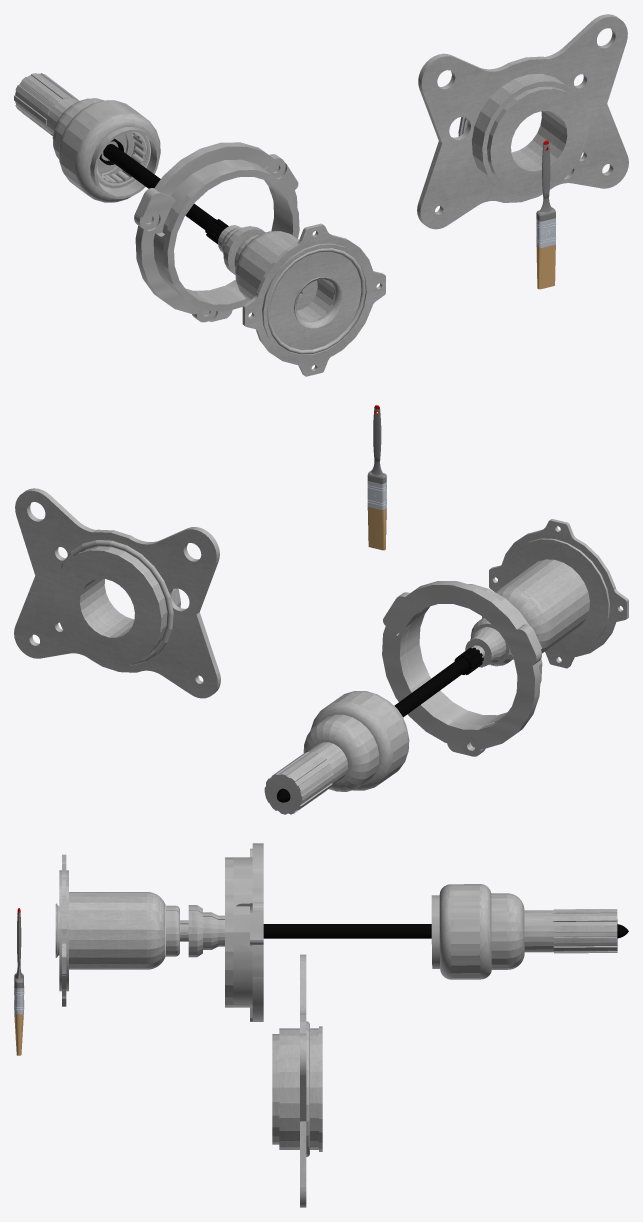
The picture shows the model from 3 angles, top to bottom: view 1: azimuth 30°, elevation 25°; view 2: azimuth 150°, elevation 25°; view 3: azimuth 270°, elevation 25°; orthographic projection. The views are drawn at different scales.
Visible parts, largest first — view 1: 1.008, slongsong, 1.001, 1.003, Paint+Brush+2, 1.002, 2.001; view 2: 1.008, slongsong, 1.001, 1.003, Paint+Brush+2; view 3: slongsong, 1.003, 1.008, 1.001, Paint+Brush+2.
Part boxes in pixels (box(x1,y1,x2,y2)): 1.008: box(417, 14, 628, 229); slongsong: box(99, 138, 385, 376); 1.001: box(134, 142, 299, 322); 1.003: box(14, 73, 160, 202); Paint+Brush+2: box(536, 140, 556, 289); 1.002: box(96, 132, 149, 188); 2.001: box(97, 132, 133, 176); 1.008: box(14, 488, 220, 698); slongsong: box(276, 519, 628, 802); 1.001: box(382, 581, 542, 756); 1.003: box(264, 691, 409, 814); Paint+Brush+2: box(367, 405, 386, 550); slongsong: box(55, 854, 628, 1006); 1.003: box(431, 884, 617, 979); 1.008: box(272, 954, 322, 1207); 1.001: box(225, 843, 263, 1021); Paint+Brush+2: box(14, 908, 24, 1055).
Bounding box in the file's own units: 936 × 373 × 988.
18 materials, 9 textured.
